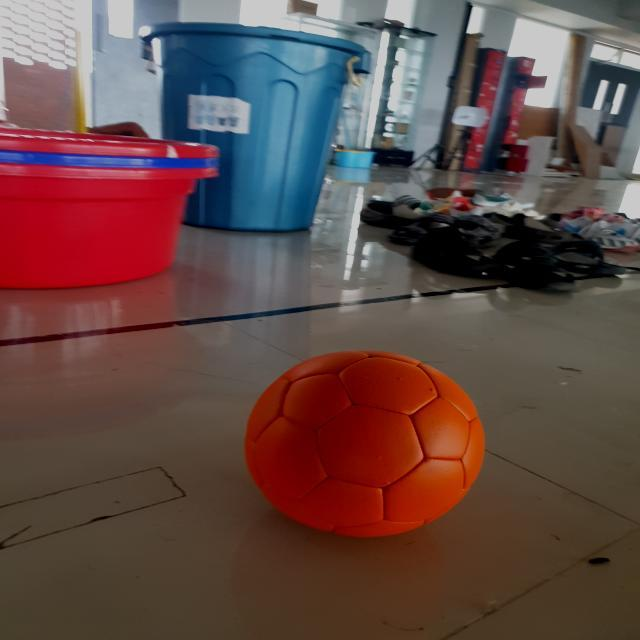bola: (234, 342, 498, 546)
